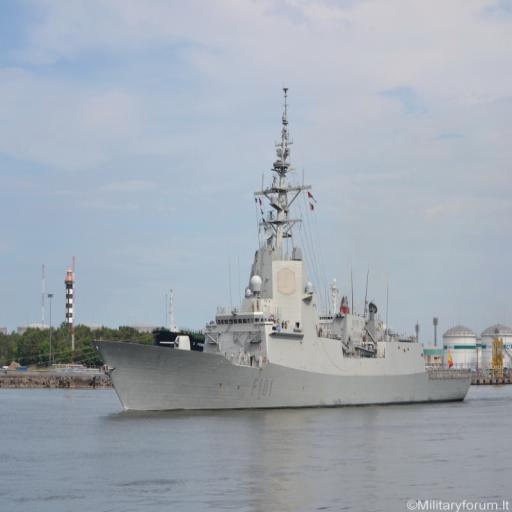Fragata: (89, 88, 479, 420)
